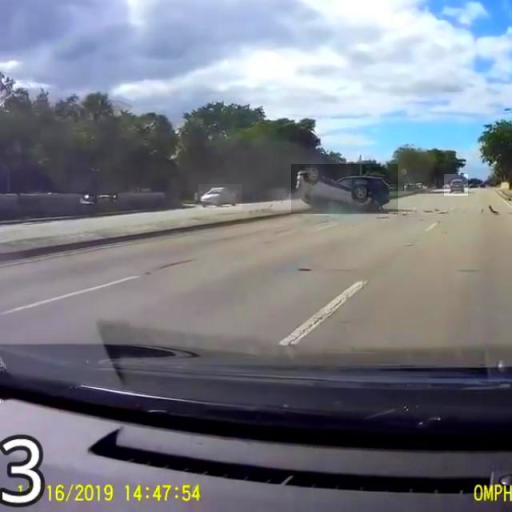小汽车: (198, 184, 242, 210), (444, 174, 468, 196)
小汽车撞小汽车: (291, 164, 398, 214)
